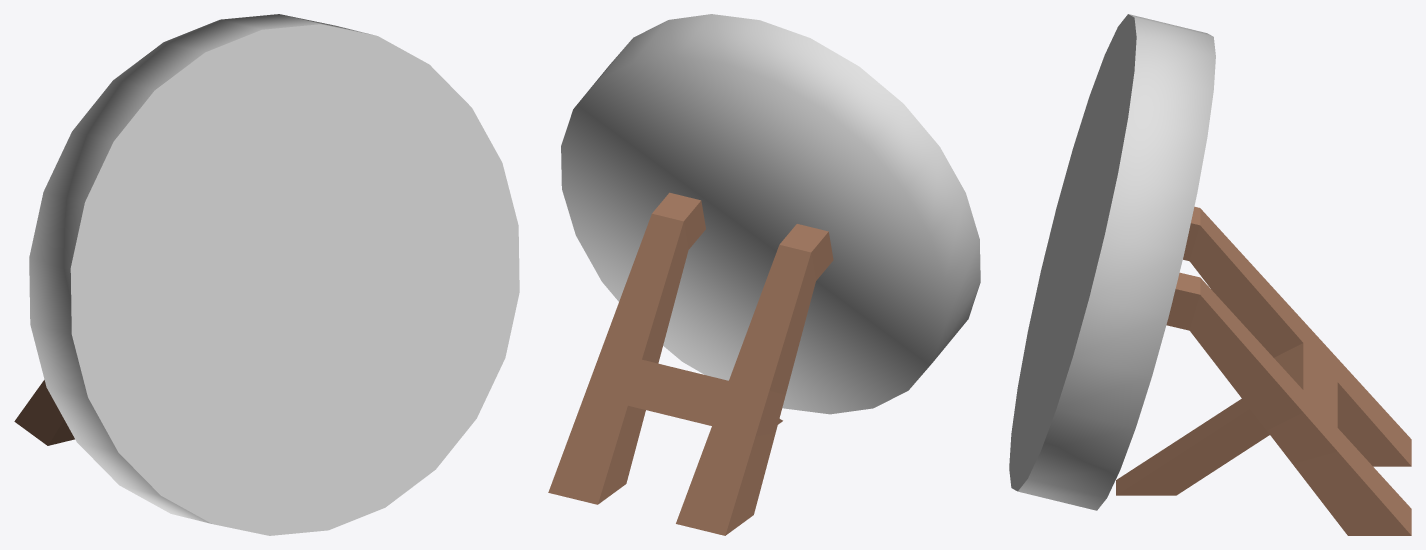
The model's file is archeryTarget.fbx.
3 renders of one model, left to right at view 1: azimuth 30°, elevation 25°; view 2: azimuth 150°, elevation 25°; view 3: azimuth 270°, elevation 25°, orthographic. The views are drawn at different scales.
Parts seen in each view (by area): view 1: front, back, stand; view 2: back, stand; view 3: back, stand, front.
Part boxes in pixels (<box>): front: <box>70,24,519,535</box>; back: <box>29,14,372,523</box>; stand: <box>14,380,74,445</box>; back: <box>561,14,980,414</box>; stand: <box>548,192,833,535</box>; back: <box>1018,14,1215,510</box>; stand: <box>1116,206,1411,535</box>; front: <box>1009,14,1136,491</box>.
Size of the model in its own units: 120 by 121 by 98.08.
